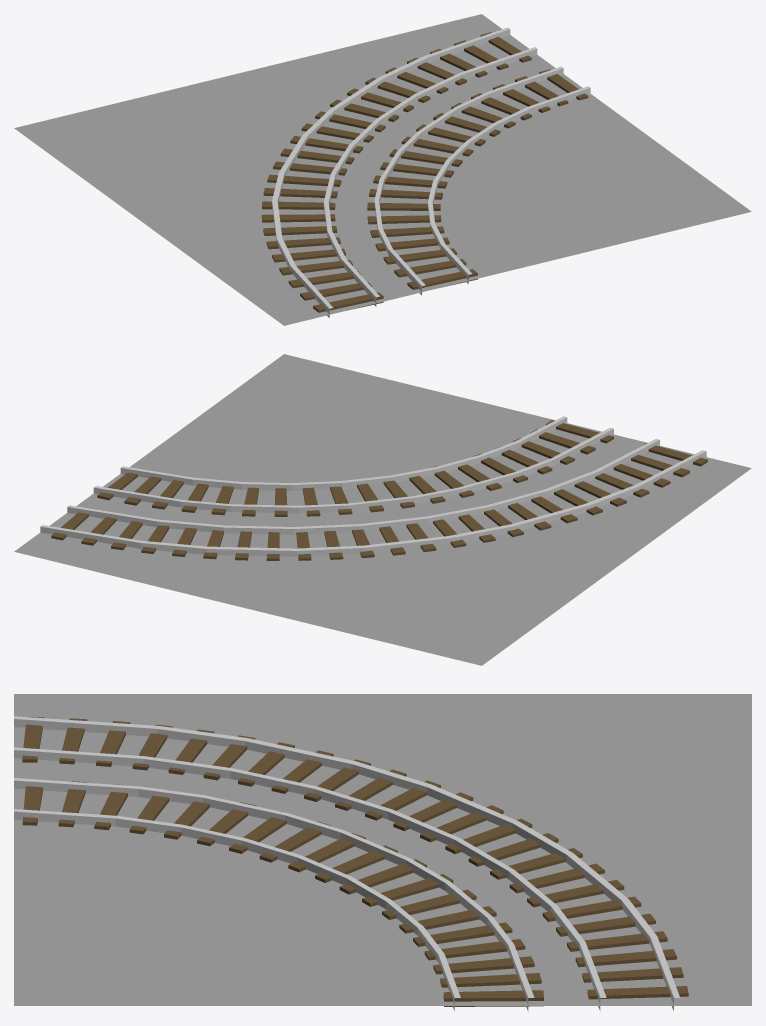
The model's file is tile_railroad_2x2_002.glb.
The picture shows the model from 3 angles, top to bottom: view 1: azimuth 30°, elevation 25°; view 2: azimuth 150°, elevation 25°; view 3: azimuth 270°, elevation 25°; orthographic projection. The views are drawn at different scales.
Visible parts, largest first — view 1: tile_railroad_2x2_002(Clone); view 2: tile_railroad_2x2_002(Clone); view 3: tile_railroad_2x2_002(Clone).
Boxes of the visible parts, box(x1,y1,x2,y2) form: tile_railroad_2x2_002(Clone): box(14, 14, 751, 325); tile_railroad_2x2_002(Clone): box(14, 354, 751, 665); tile_railroad_2x2_002(Clone): box(14, 694, 751, 1011).
Size of the model in its own units: 16 by 0.4984 by 16.
1 material, 1 textured.
